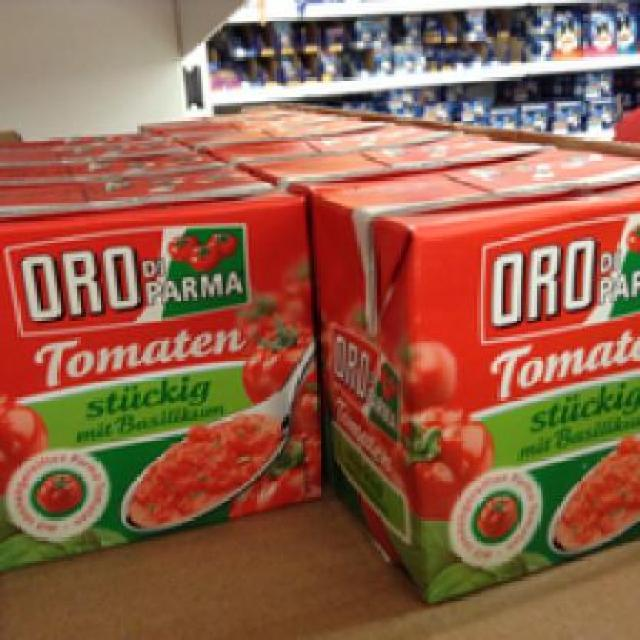Tomato Sauce: (308, 145, 638, 598), (0, 166, 317, 574)
